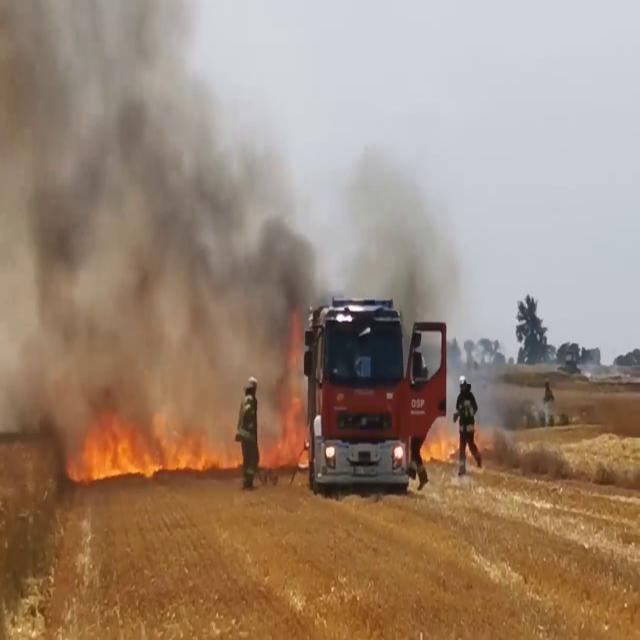Fire: (72, 408, 234, 482), (262, 314, 312, 474), (421, 420, 461, 466)
Smoke: (0, 0, 319, 420), (330, 119, 470, 330)
